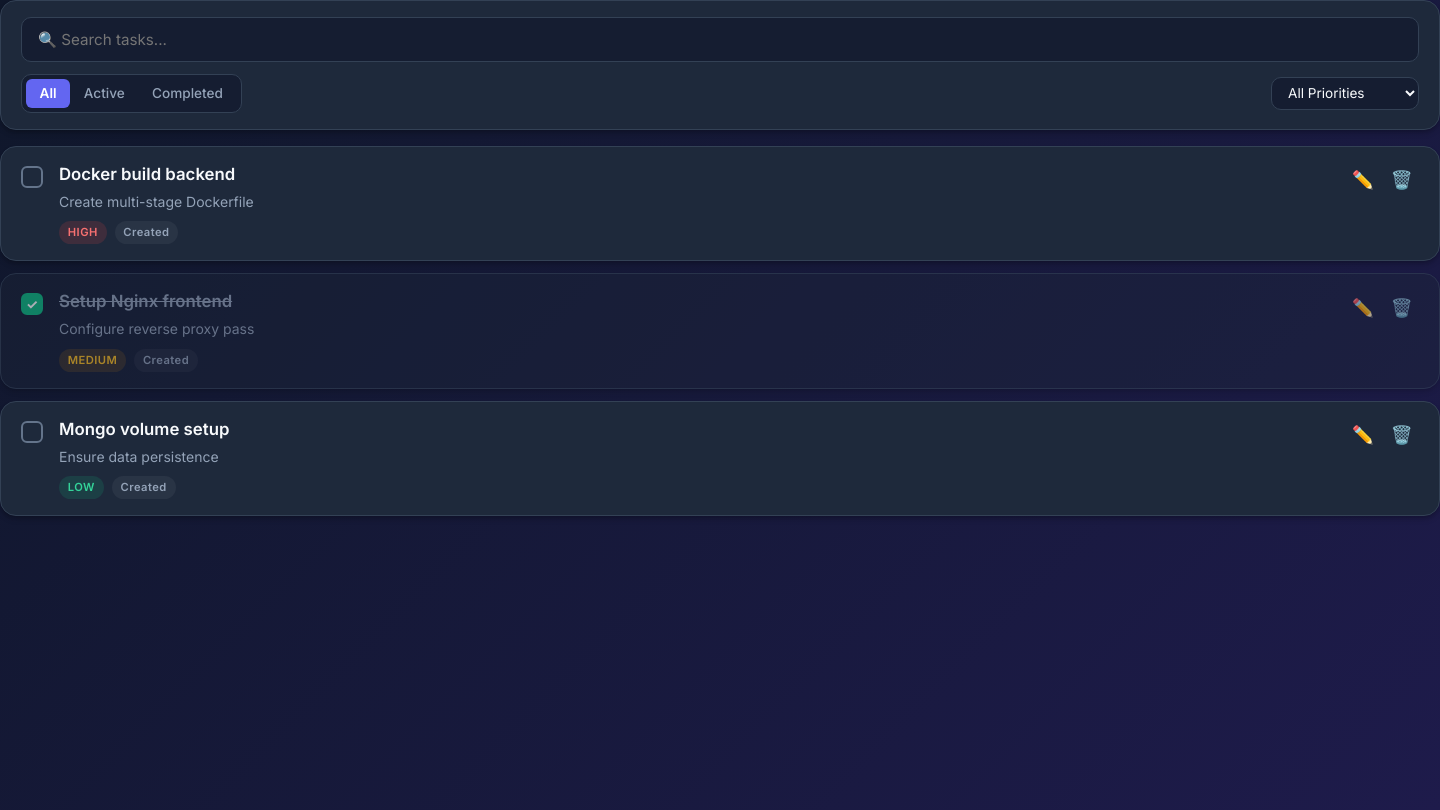
Test: TodoList Component Edge Cases › should filter by completed status tab
Click the tab "Completed". click: (187, 93)
box: left=138, top=79, right=236, bottom=108
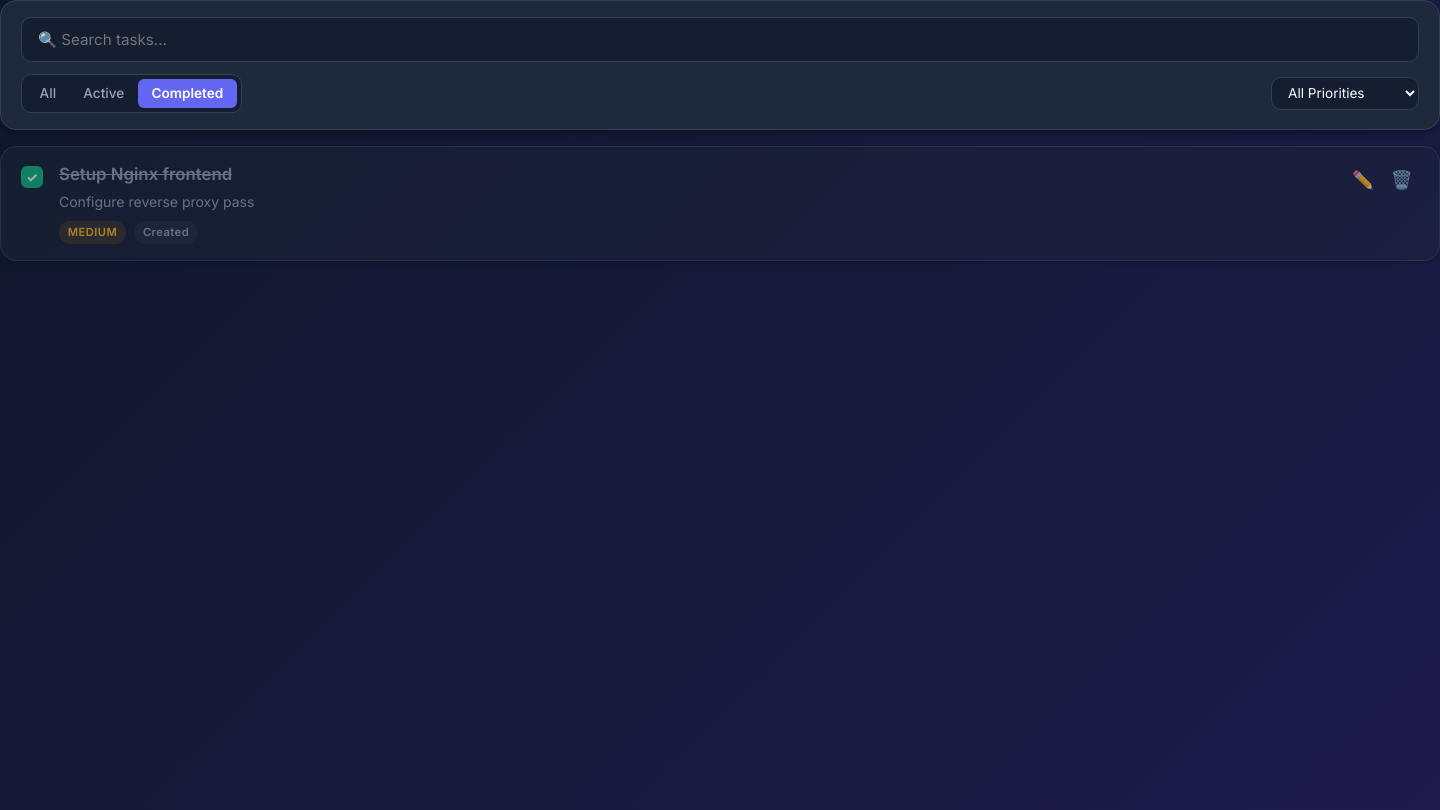
Check: the heading "Setup Nginx frontend" is shown, box left=59, top=164, right=232, bottom=184
Check: the heading "Docker build backend" is gone
Check: the heading "Mongo volume setup" is gone
